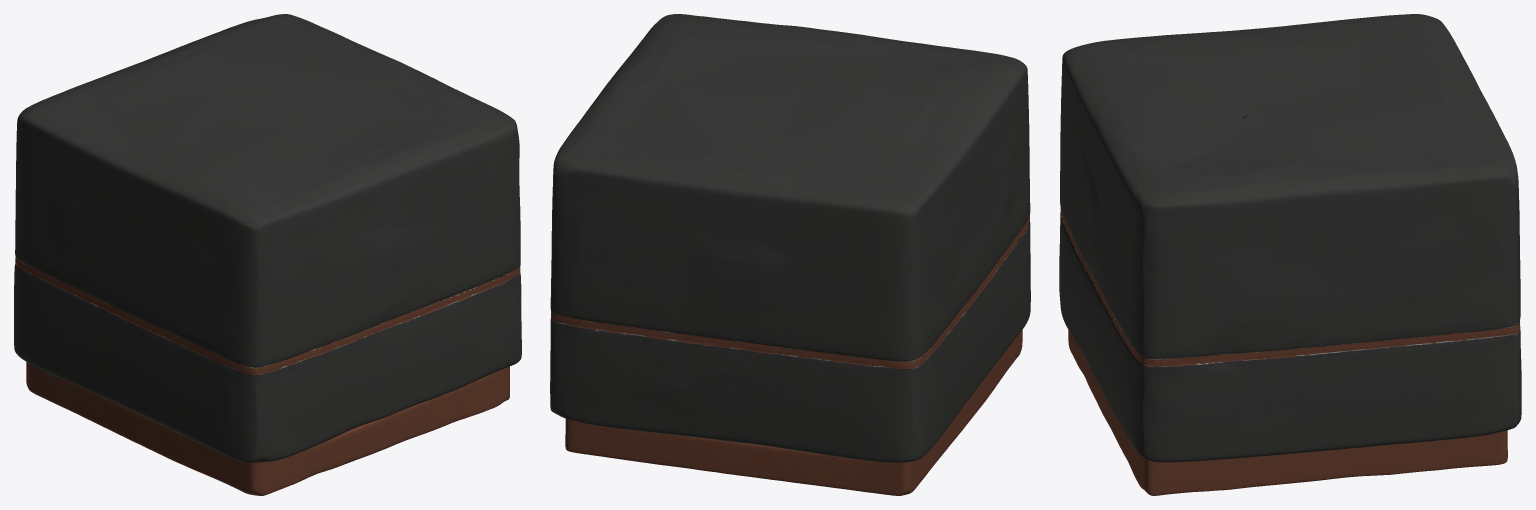
3 renders of one model, left to right at view 1: azimuth 30°, elevation 25°; view 2: azimuth 150°, elevation 25°; view 3: azimuth 270°, elevation 25°, orthographic. The views are drawn at different scales.
Visible parts, largest first — view 1: tripo_node_8df398ac-85d2-4ba6-a645-5a37a321885b; view 2: tripo_node_8df398ac-85d2-4ba6-a645-5a37a321885b; view 3: tripo_node_8df398ac-85d2-4ba6-a645-5a37a321885b.
Part boxes in pixels (box(x1,y1,x2,y2)): tripo_node_8df398ac-85d2-4ba6-a645-5a37a321885b: box(14, 14, 521, 495); tripo_node_8df398ac-85d2-4ba6-a645-5a37a321885b: box(550, 14, 1030, 495); tripo_node_8df398ac-85d2-4ba6-a645-5a37a321885b: box(1059, 14, 1521, 495).
Size of the model in its own units: 0.55 by 0.4 by 0.55.
Materials: 2 (1 with a texture image).
